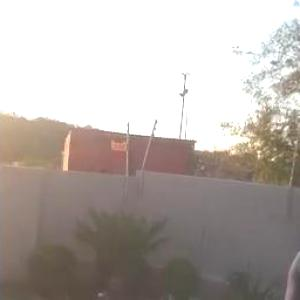follow: (274, 156, 299, 299)
